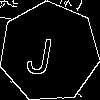J: (24, 27, 57, 77)
